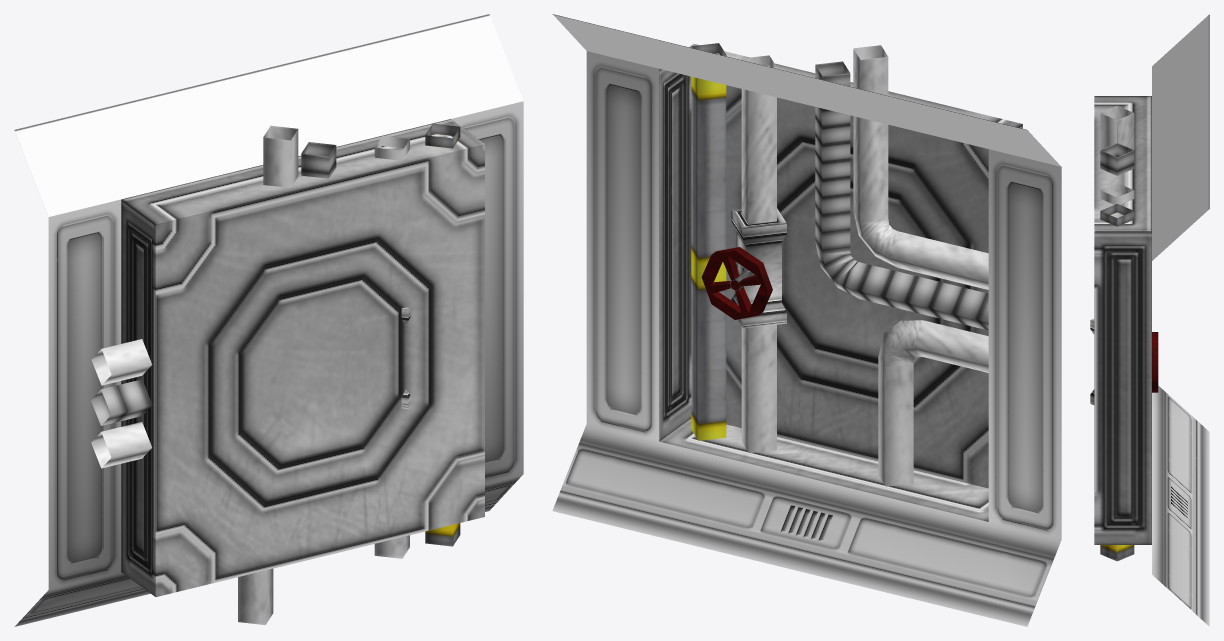
The model's file is Sect_Wall_4a_ Pipes.FBX.
3 views of the same model, side by side, from view 1: azimuth 30°, elevation 25°; view 2: azimuth 150°, elevation 25°; view 3: azimuth 270°, elevation 25° (orthographic). The views are drawn at different scales.
Visible parts, largest first — view 1: Wall_4a_ Pipes; view 2: Wall_4a_ Pipes; view 3: Wall_4a_ Pipes.
Boxes of the visible parts, left/top/right/bottom form: Wall_4a_ Pipes: left=14, top=14, right=523, bottom=626; Wall_4a_ Pipes: left=552, top=14, right=1061, bottom=626; Wall_4a_ Pipes: left=1090, top=14, right=1209, bottom=626.
Bounding box in the file's own units: 4 × 4 × 1.04.
